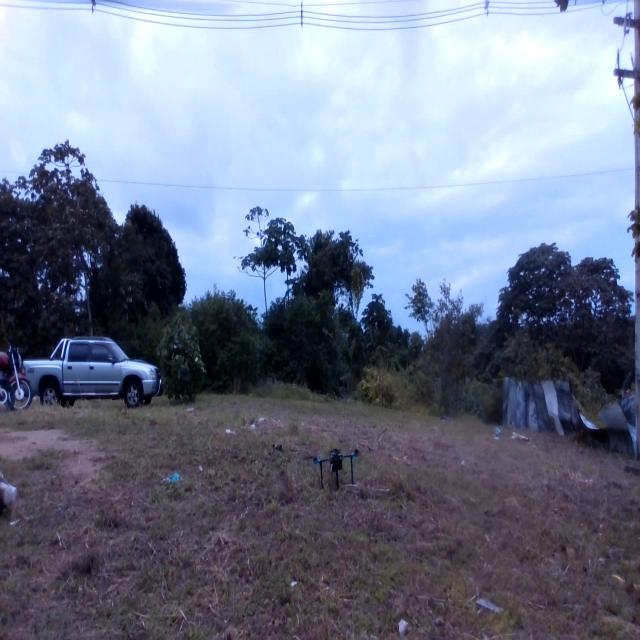-uav-: (309, 440, 377, 489)
